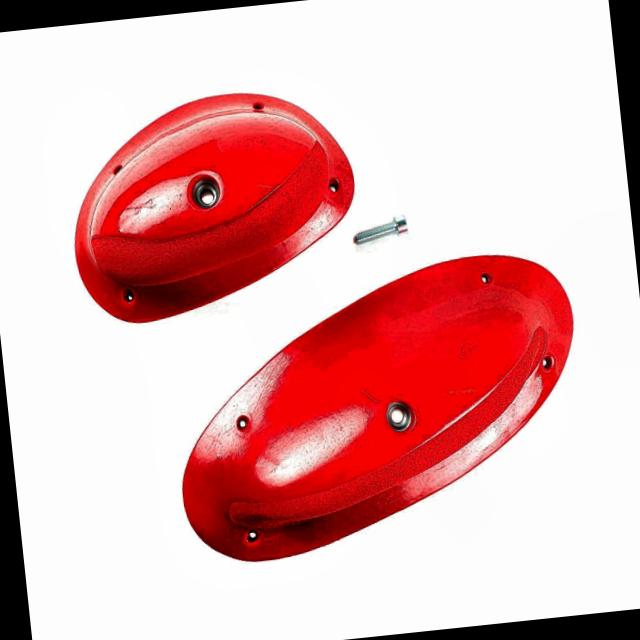Hold: (158, 240, 596, 570), (56, 74, 366, 328)
